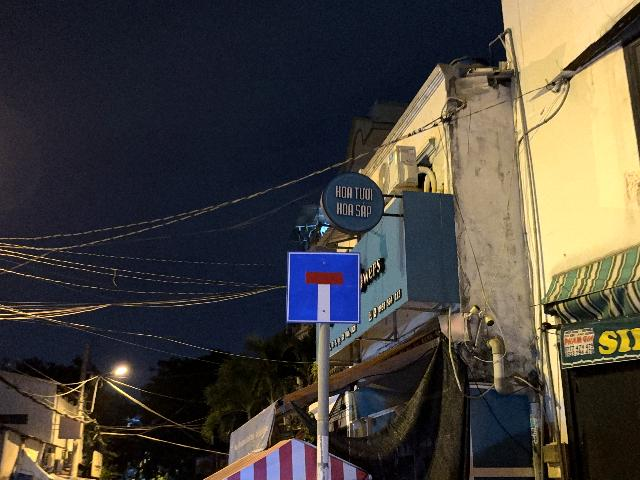duong-cut: (286, 252, 360, 324)
